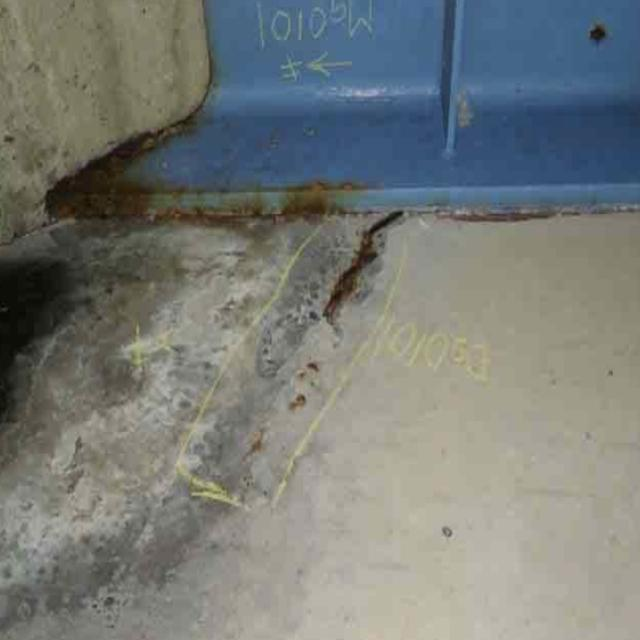corrosion: (50, 107, 333, 227)
spalling: (257, 242, 404, 357)
